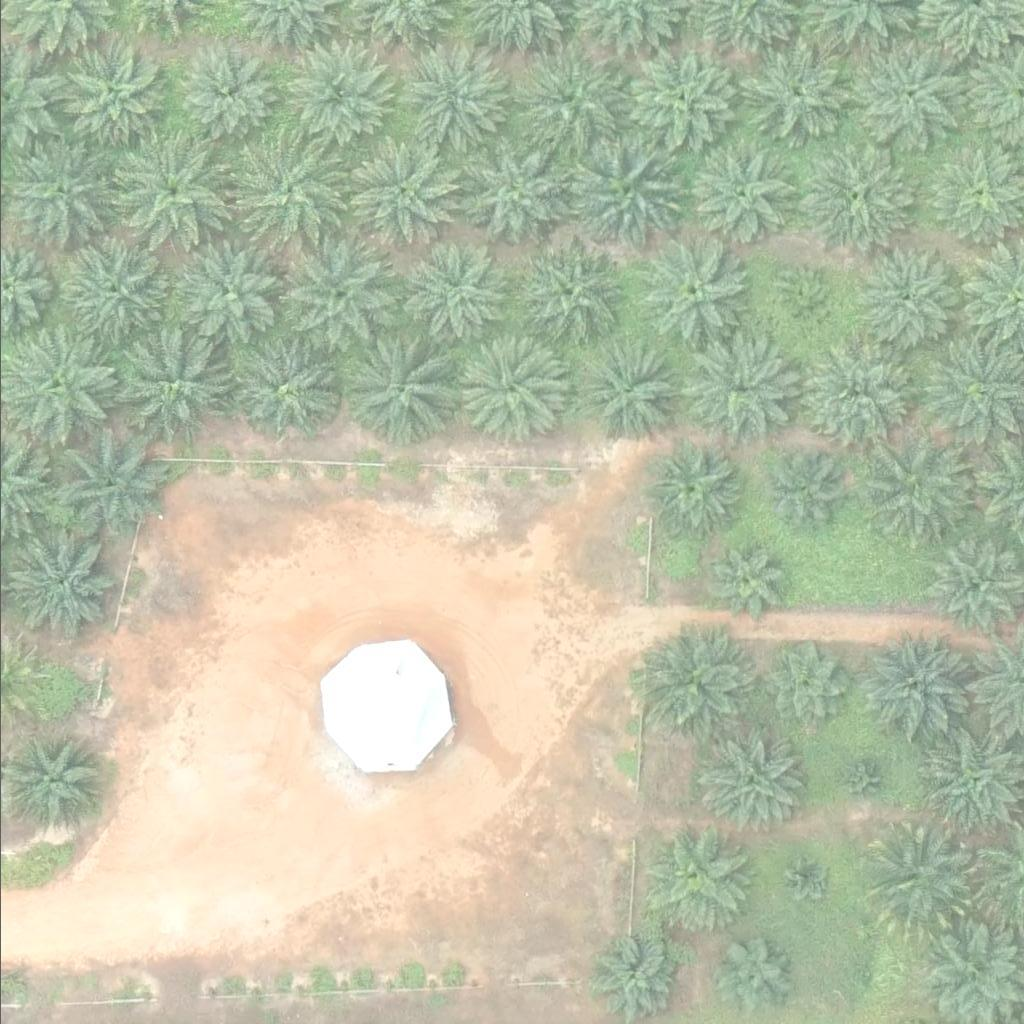Kelapa_Sawit: (801, 338, 915, 451), (512, 43, 626, 156), (397, 44, 511, 157), (1, 532, 115, 645), (50, 430, 164, 543), (853, 631, 966, 744), (279, 40, 392, 153), (635, 236, 748, 349), (513, 233, 626, 346), (678, 332, 791, 445), (574, 336, 687, 449), (451, 336, 564, 449), (339, 331, 452, 444), (640, 631, 753, 744), (112, 135, 225, 248), (7, 134, 120, 247), (58, 37, 171, 150), (622, 45, 736, 157), (457, 137, 571, 249), (340, 136, 454, 248), (279, 239, 393, 351), (639, 823, 753, 935), (111, 333, 225, 445), (864, 822, 977, 934), (865, 436, 978, 548), (797, 142, 910, 254), (850, 45, 963, 157), (741, 39, 854, 151), (565, 137, 678, 249), (232, 131, 345, 243), (690, 724, 803, 836), (53, 234, 166, 346), (168, 236, 281, 348), (688, 147, 789, 247), (857, 252, 957, 352), (406, 242, 506, 342), (233, 341, 333, 441), (646, 447, 735, 535), (757, 643, 845, 730), (707, 934, 795, 1021), (183, 52, 271, 139), (759, 456, 835, 531), (709, 542, 784, 617), (769, 273, 832, 335), (836, 758, 887, 808), (780, 852, 831, 902), (844, 949, 894, 999)
